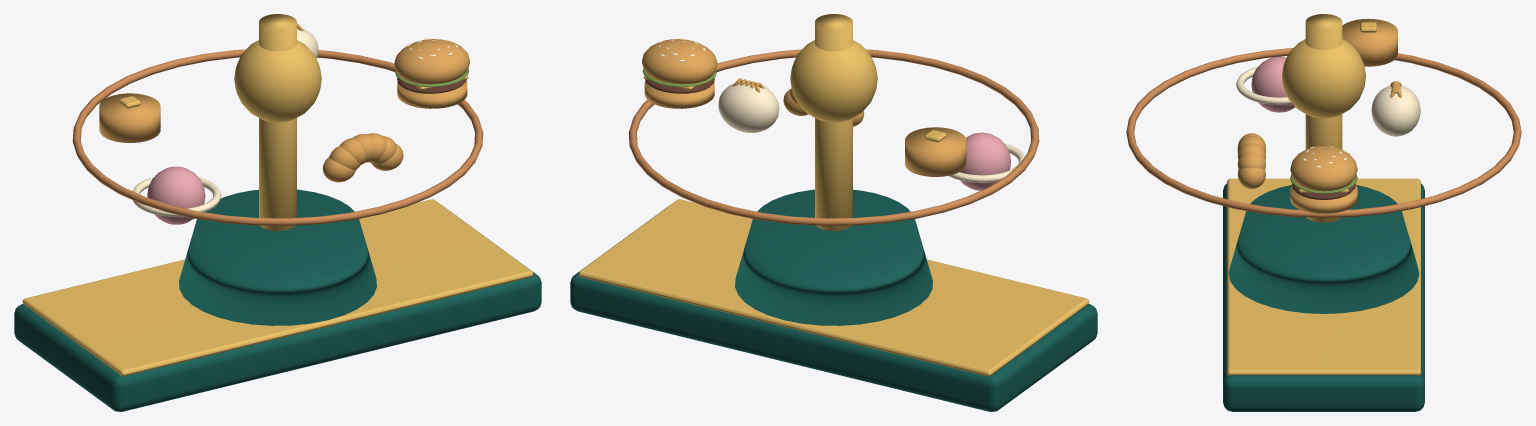
3 views of the same model, side by side, from view 1: azimuth 30°, elevation 25°; view 2: azimuth 150°, elevation 25°; view 3: azimuth 270°, elevation 25° (orthographic). The views are drawn at different scales.
Parts seen in each view (by area): view 1: Jade footing, Brass welt, Lower bun, Orbit rim, Sundae planet, Sesame seed; view 2: Jade footing, Brass welt, Lower bun, Orbit rim, Sesame seed, Sundae planet; view 3: Jade footing, Brass welt, Lower bun, Orbit rim, Sesame seed, Sundae planet, Patty.
Boxes of the visible parts, x1,y1,x2,y2 form: Jade footing: [14, 189, 541, 411]; Brass welt: [22, 14, 533, 376]; Lower bun: [99, 23, 469, 182]; Orbit rim: [72, 49, 483, 225]; Sundae planet: [147, 166, 205, 224]; Sesame seed: [133, 28, 457, 216]; Jade footing: [570, 189, 1097, 411]; Brass welt: [578, 14, 1089, 376]; Lower bun: [642, 39, 966, 176]; Orbit rim: [628, 49, 1039, 225]; Sesame seed: [658, 38, 1024, 182]; Sundae planet: [960, 132, 1010, 190]; Jade footing: [1223, 183, 1424, 411]; Brass welt: [1227, 14, 1420, 375]; Lower bun: [1237, 18, 1401, 213]; Orbit rim: [1126, 48, 1521, 217]; Sesame seed: [1236, 67, 1420, 167]; Sundae planet: [1251, 56, 1295, 112]; Patty: [1292, 183, 1355, 199].
Bounding box in the file's own units: 1.7 × 1.15 × 1.41.
